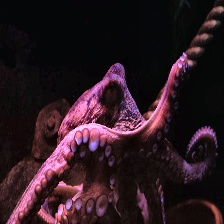octopus: (10, 3, 224, 222)
